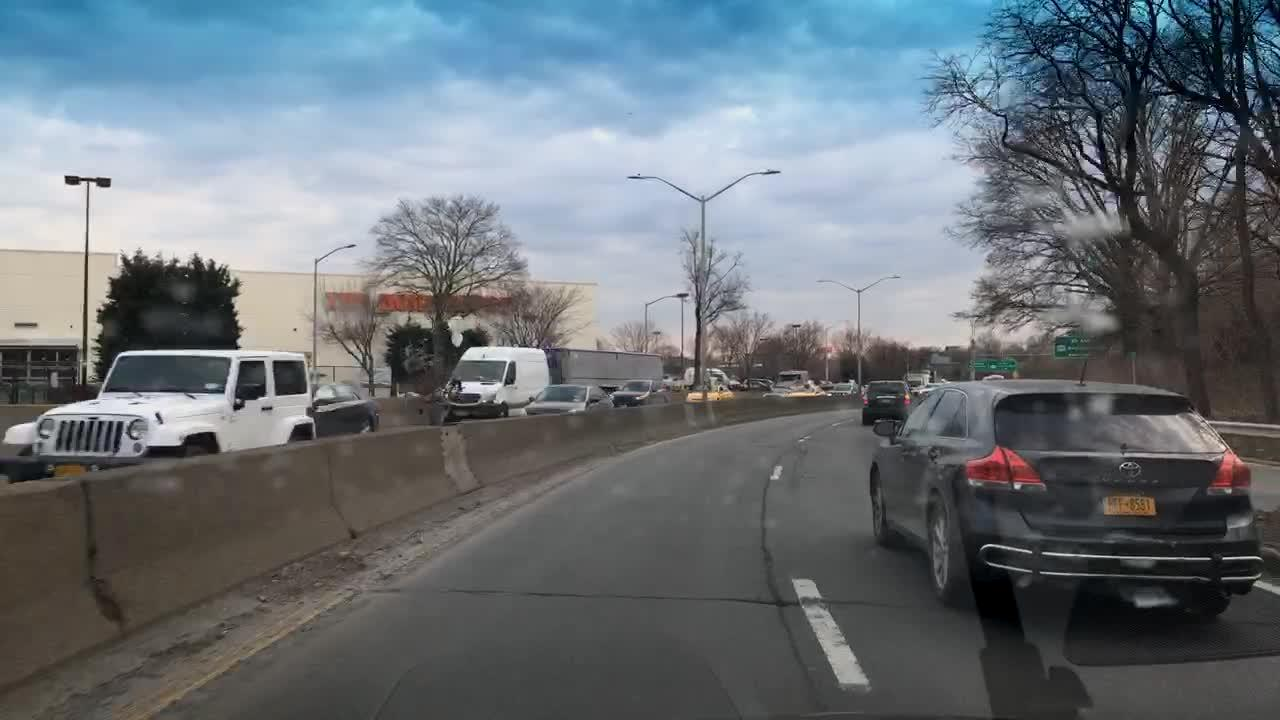Toyota: (1107, 452, 1156, 487)
